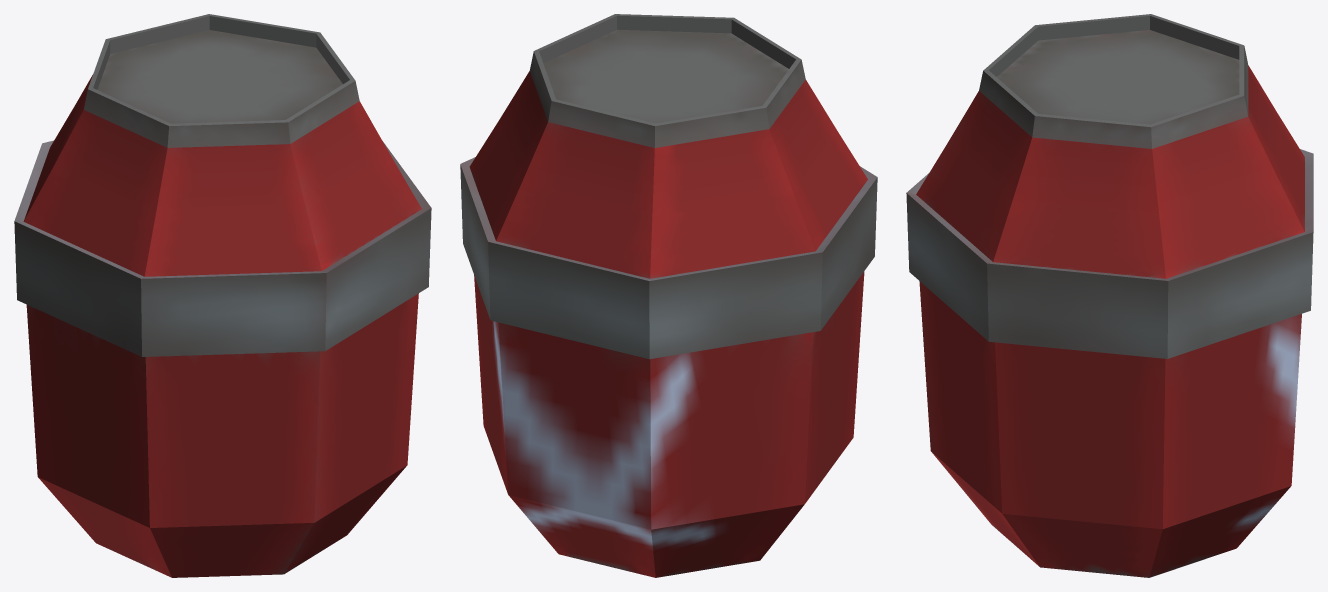
The model's file is Barrel.fbx.
The picture shows the model from 3 angles, left to right: view 1: azimuth 30°, elevation 25°; view 2: azimuth 150°, elevation 25°; view 3: azimuth 270°, elevation 25°; orthographic projection.
Parts seen in each view (by area): view 1: Cylinder; view 2: Cylinder; view 3: Cylinder.
Boxes of the visible parts, <box> form: Cylinder: <box>14,14,431,577</box>; Cylinder: <box>460,14,877,577</box>; Cylinder: <box>906,14,1313,577</box>.
Size of the model in its own units: 235 by 282 by 229.
